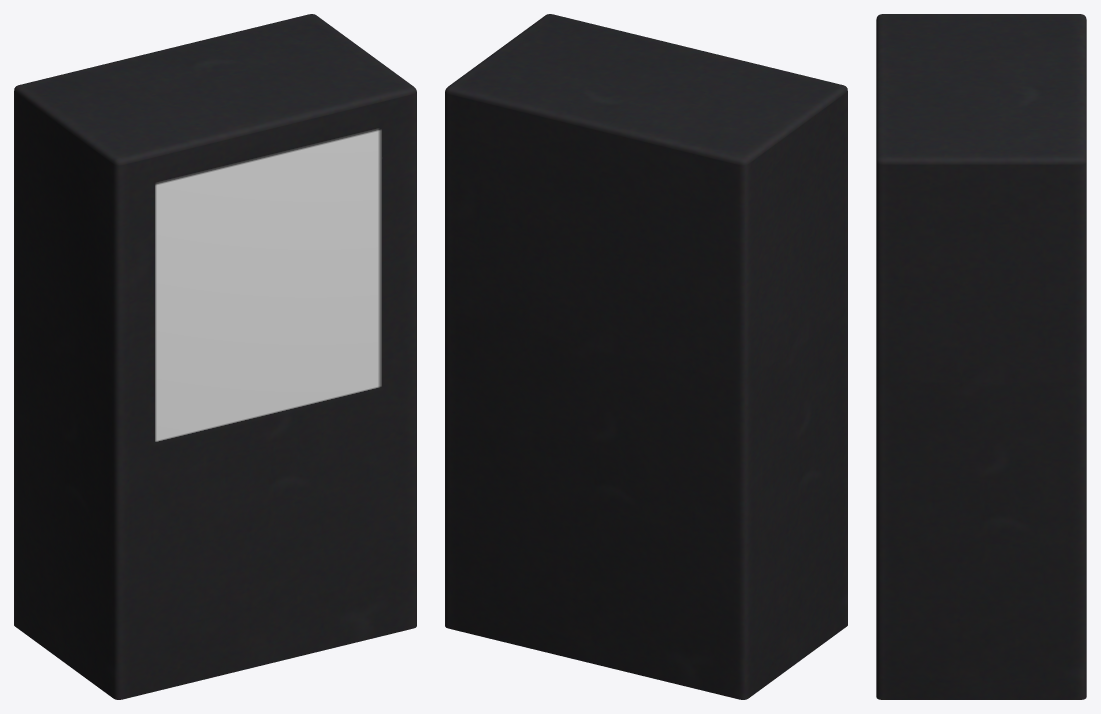
File: GardenLightRect01_2.FBX
3 renders of one model, left to right at view 1: azimuth 30°, elevation 25°; view 2: azimuth 150°, elevation 25°; view 3: azimuth 270°, elevation 25°, orthographic.
Parts seen in each view (by area): view 1: GardenLightRect01_2; view 2: GardenLightRect01_2; view 3: GardenLightRect01_2.
Boxes of the visible parts, <box> form: GardenLightRect01_2: <box>14,14,416,699</box>; GardenLightRect01_2: <box>445,14,847,699</box>; GardenLightRect01_2: <box>876,14,1086,699</box>.
Size of what is drawn, in the model's own units: 0.1 by 0.1704 by 0.0601.
